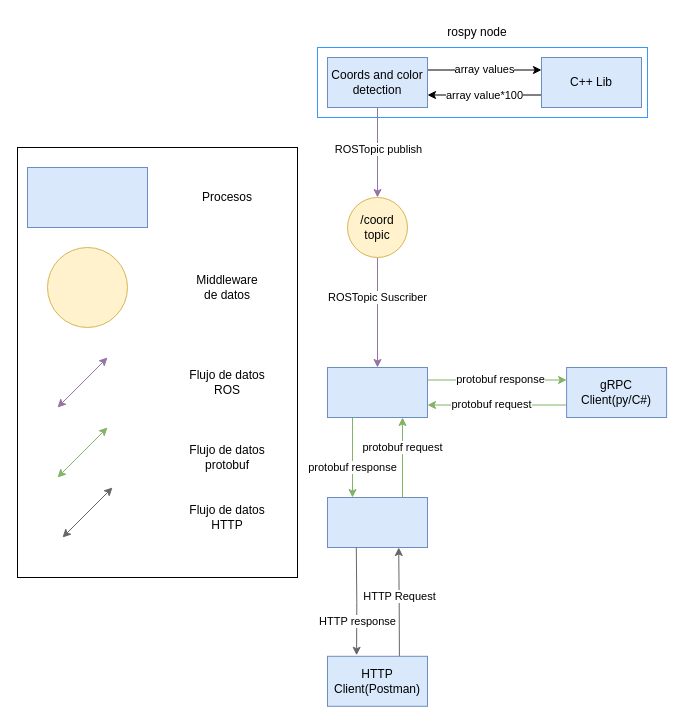
Image size: 685x724. Some labels were removed from this diagram. The shapes that lost their labels are listed below. From the top down, each one's centre as x and y in pixels, then its label:
At (377,392): "gRPC Server".
At (377,522): "gRPC Gateway".
